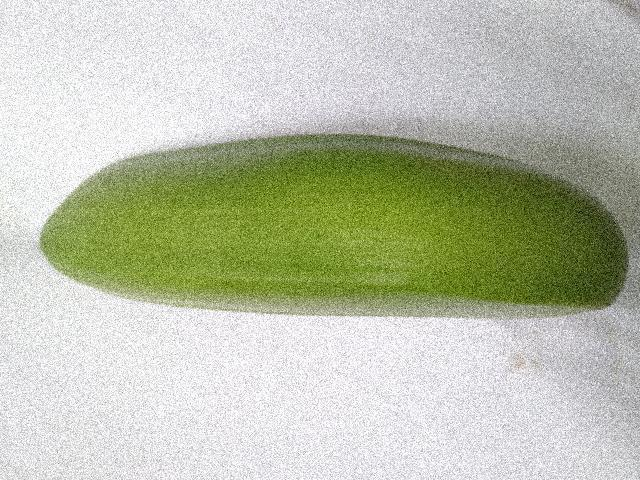freshunripe: (28, 110, 639, 345)
